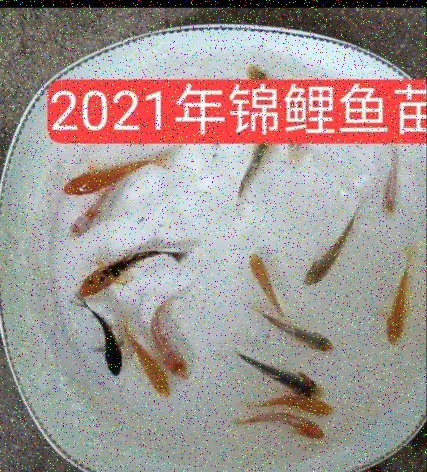fry: (291, 193, 364, 292), (62, 250, 183, 299), (254, 304, 353, 358), (146, 291, 206, 378), (71, 304, 132, 388), (381, 244, 423, 353), (239, 350, 334, 398), (51, 152, 139, 199), (235, 409, 335, 445), (127, 333, 172, 409), (223, 142, 279, 201), (253, 388, 342, 419), (373, 150, 414, 215), (243, 253, 287, 313), (53, 204, 112, 237), (232, 59, 276, 85), (283, 142, 309, 163)
